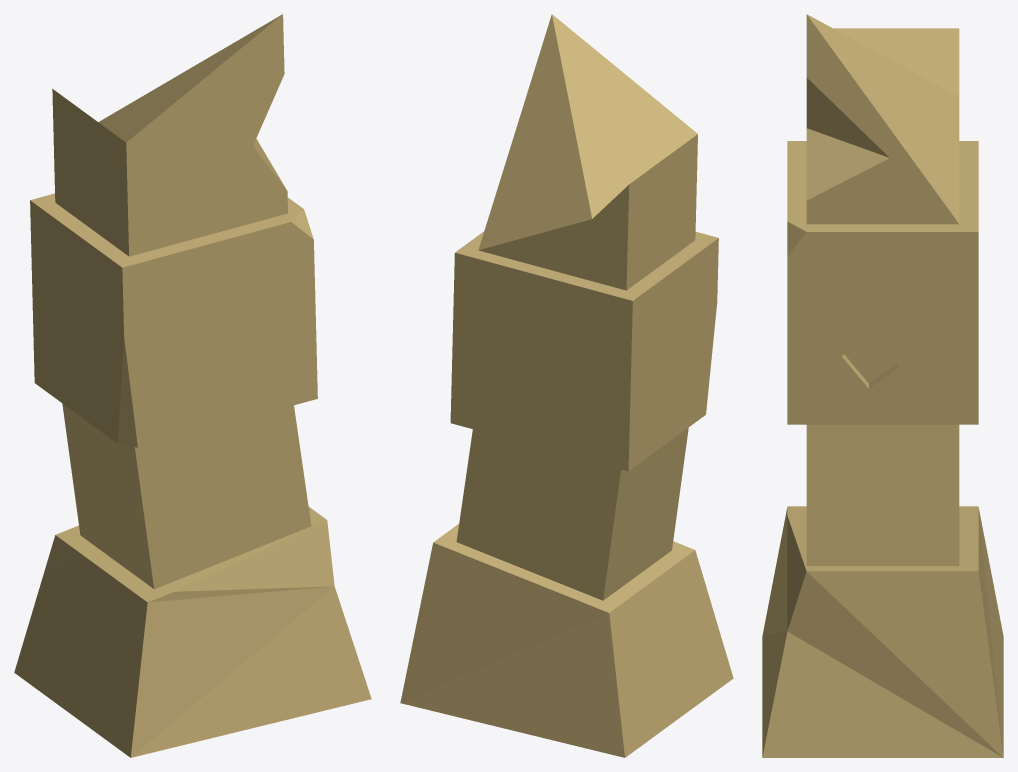
File: Prop_Ruins_Archway_Sandstone_Half_02.fbx
3 renders of one model, left to right at view 1: azimuth 30°, elevation 25°; view 2: azimuth 150°, elevation 25°; view 3: azimuth 270°, elevation 25°, orthographic. The views are drawn at different scales.
Parts seen in each view (by area): view 1: Prop_Ruins_Archway_Sandstone_Half_02; view 2: Prop_Ruins_Archway_Sandstone_Half_02; view 3: Prop_Ruins_Archway_Sandstone_Half_02.
Part boxes in pixels (box(x1,y1,x2,y2)): Prop_Ruins_Archway_Sandstone_Half_02: box(14, 14, 371, 757); Prop_Ruins_Archway_Sandstone_Half_02: box(400, 14, 733, 757); Prop_Ruins_Archway_Sandstone_Half_02: box(762, 14, 1003, 757).
Bounding box in the file's own units: 994 × 2704 × 832.
